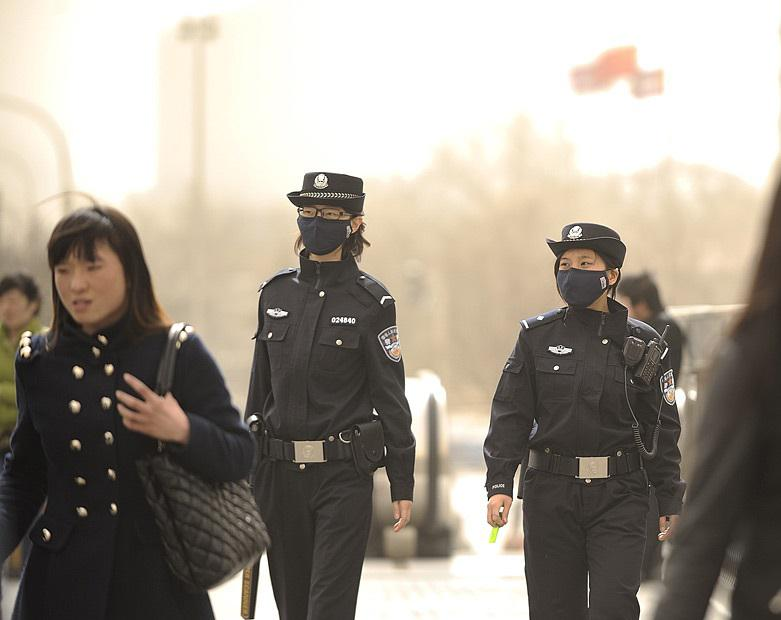NONE: (54, 249, 123, 326), (5, 293, 38, 326)
OK: (557, 253, 609, 305), (298, 204, 348, 254)
